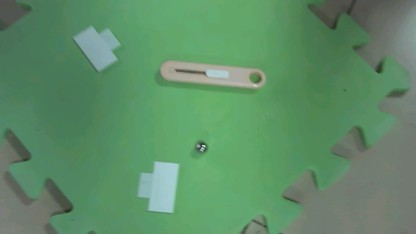ironball: (190, 136, 214, 155)
